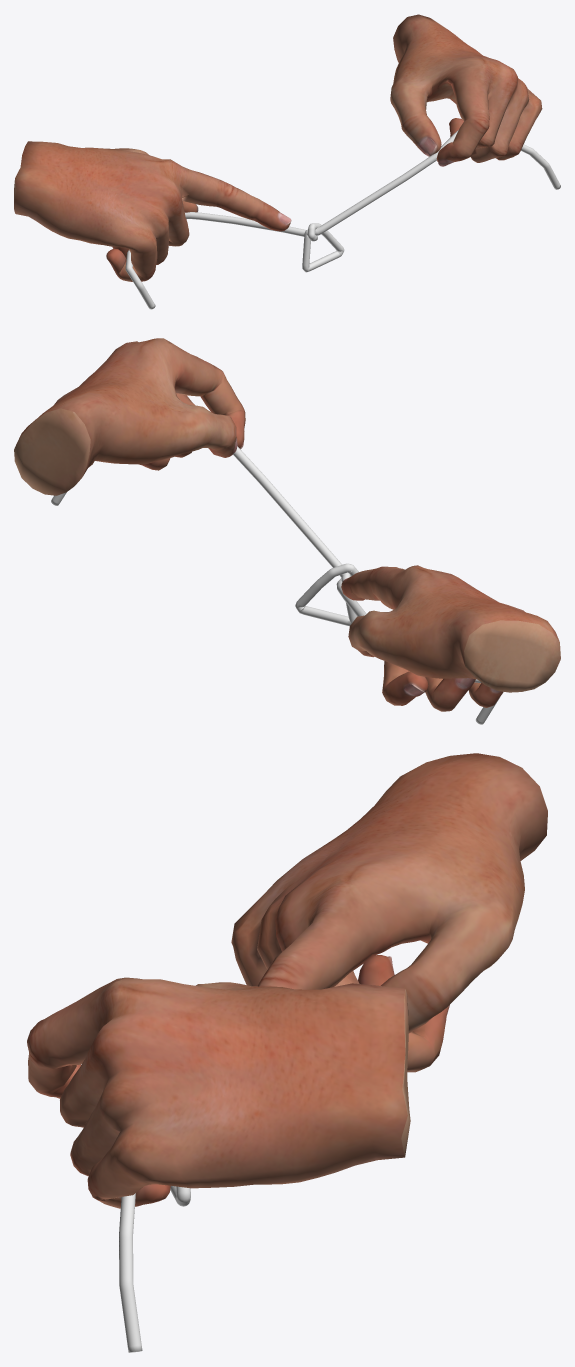
Rendered from mfk_part4_assi_fasten.fbx.
3 renders of one model, top to bottom at view 1: azimuth 30°, elevation 25°; view 2: azimuth 150°, elevation 25°; view 3: azimuth 270°, elevation 25°, orthographic. The views are drawn at different scales.
Visible parts, largest first — view 1: Hand_R, Hand_L, faden_L, faden_R; view 2: Hand_L, Hand_R, faden_L, faden_R; view 3: Hand_L, Hand_R, faden_L.
Boxes of the visible parts, x1=… form: Hand_R: x1=14, y1=141, x2=291, y2=281; Hand_L: x1=390, y1=14, x2=542, y2=166; faden_L: x1=302, y1=130, x2=560, y2=272; faden_R: x1=125, y1=212, x2=344, y2=309; Hand_L: x1=14, y1=338, x2=245, y2=495; Hand_R: x1=341, y1=565, x2=560, y2=711; faden_L: x1=51, y1=446, x2=356, y2=626; faden_R: x1=295, y1=563, x2=499, y2=724; Hand_L: x1=27, y1=977, x2=410, y2=1208; Hand_R: x1=231, y1=753, x2=547, y2=1072; faden_L: x1=119, y1=1193, x2=142, y2=1352.
Size of the model in its own units: 45.58 by 18.7 by 21.73.
